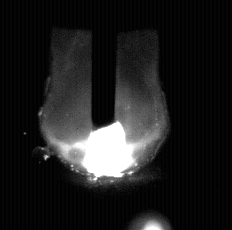arame: (92, 0, 116, 131)
poca: (40, 0, 169, 230)
